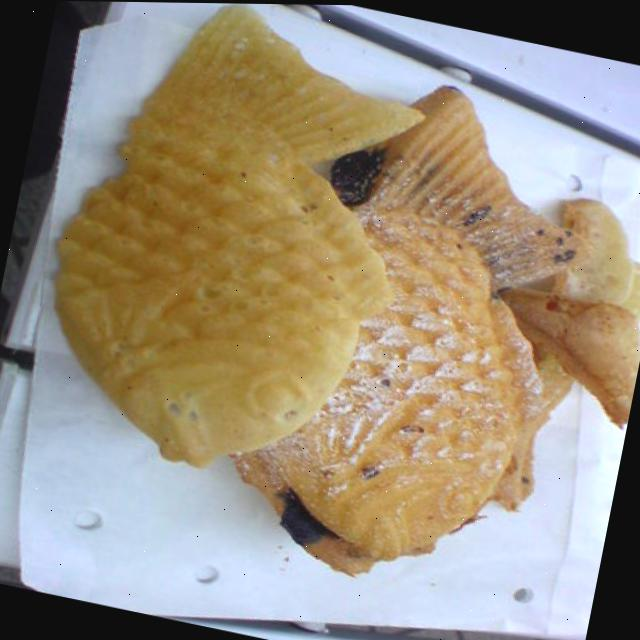熟制海鲜: (200, 29, 621, 615)
